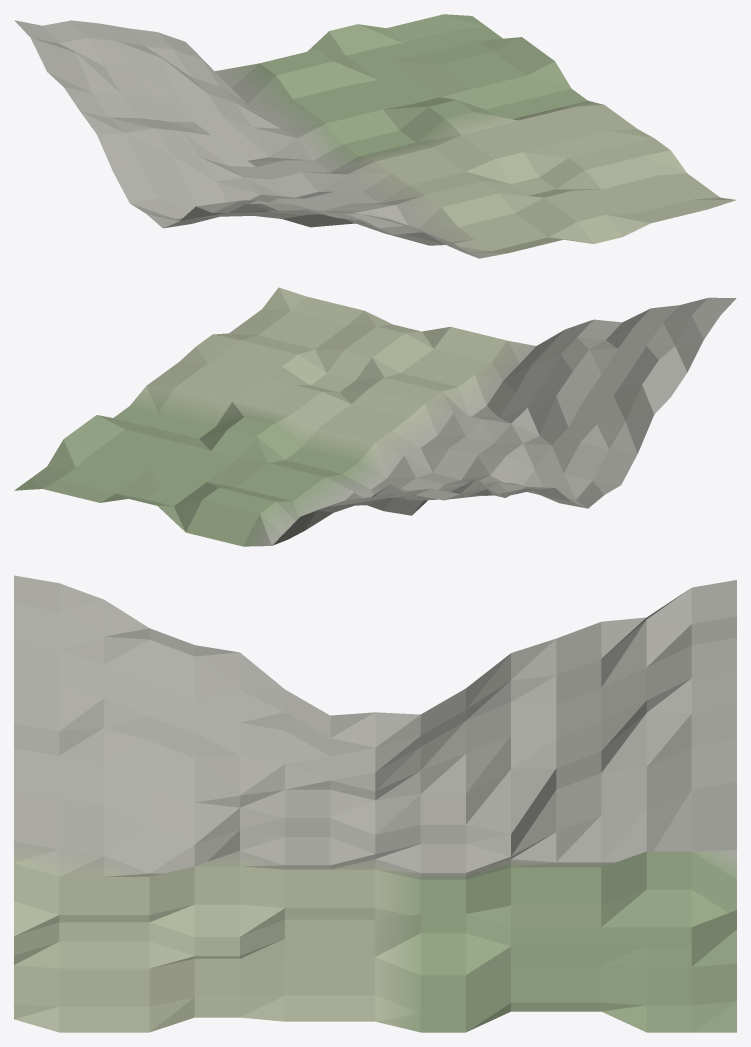
The picture shows the model from 3 angles, top to bottom: view 1: azimuth 30°, elevation 25°; view 2: azimuth 150°, elevation 25°; view 3: azimuth 270°, elevation 25°; orthographic projection. The views are drawn at different scales.
Bounding box in the file's own units: 32 × 8.13 × 32.
